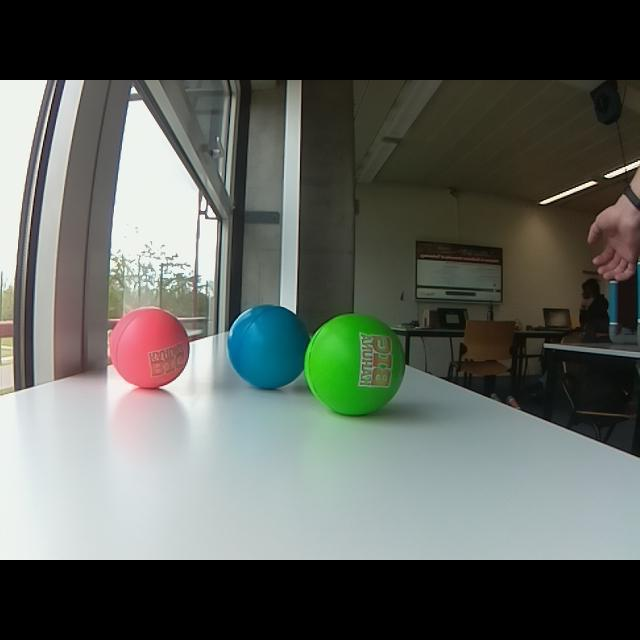ball: (226, 302, 302, 389)
